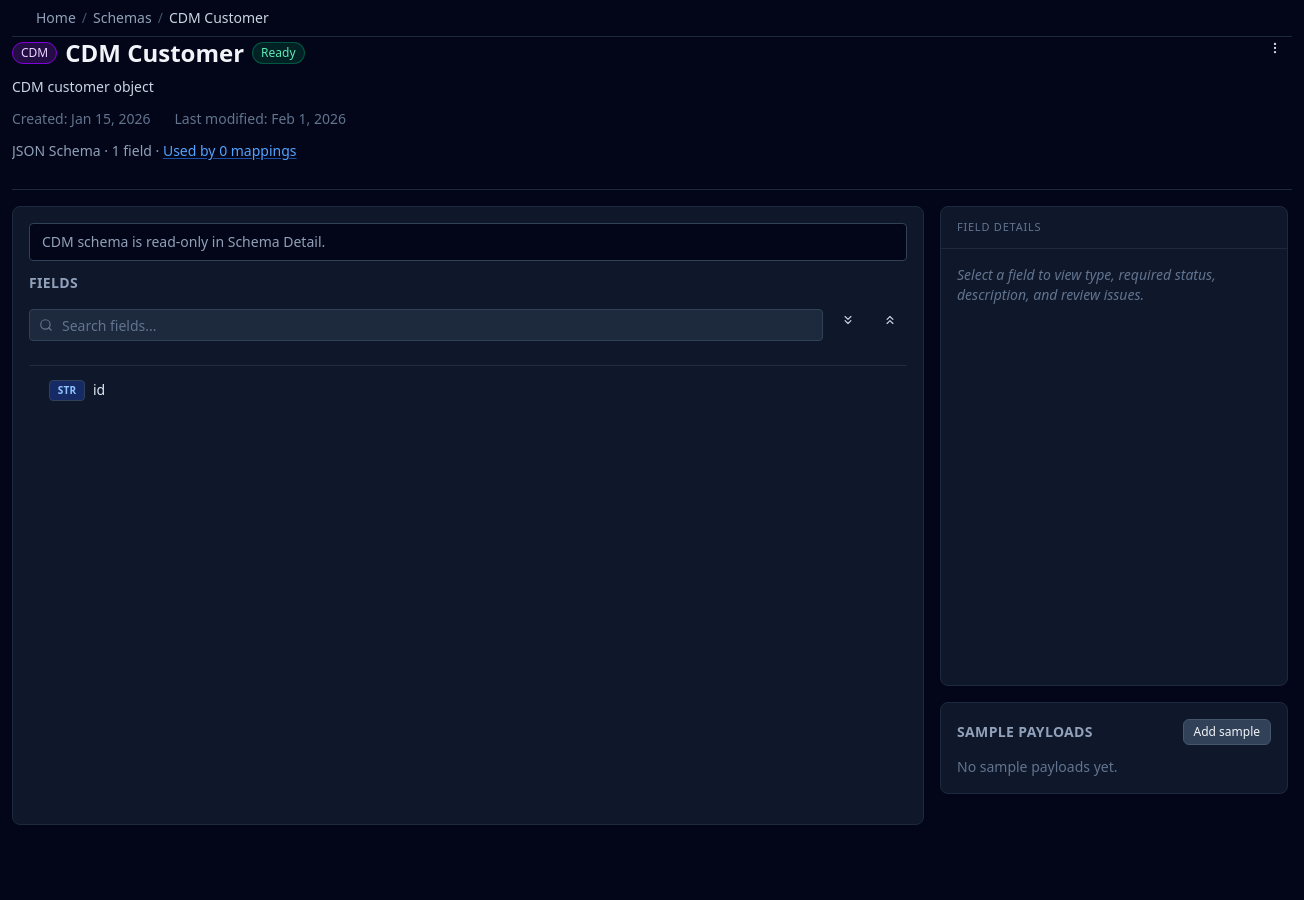
Scenario: SchemaDetailPage › CDM schema actions show header overflow View raw only and hide schema-edit entrypoints
Click the button with test id "action-overflow-trigger" at (1275, 48), box [1258,37,1292,59]
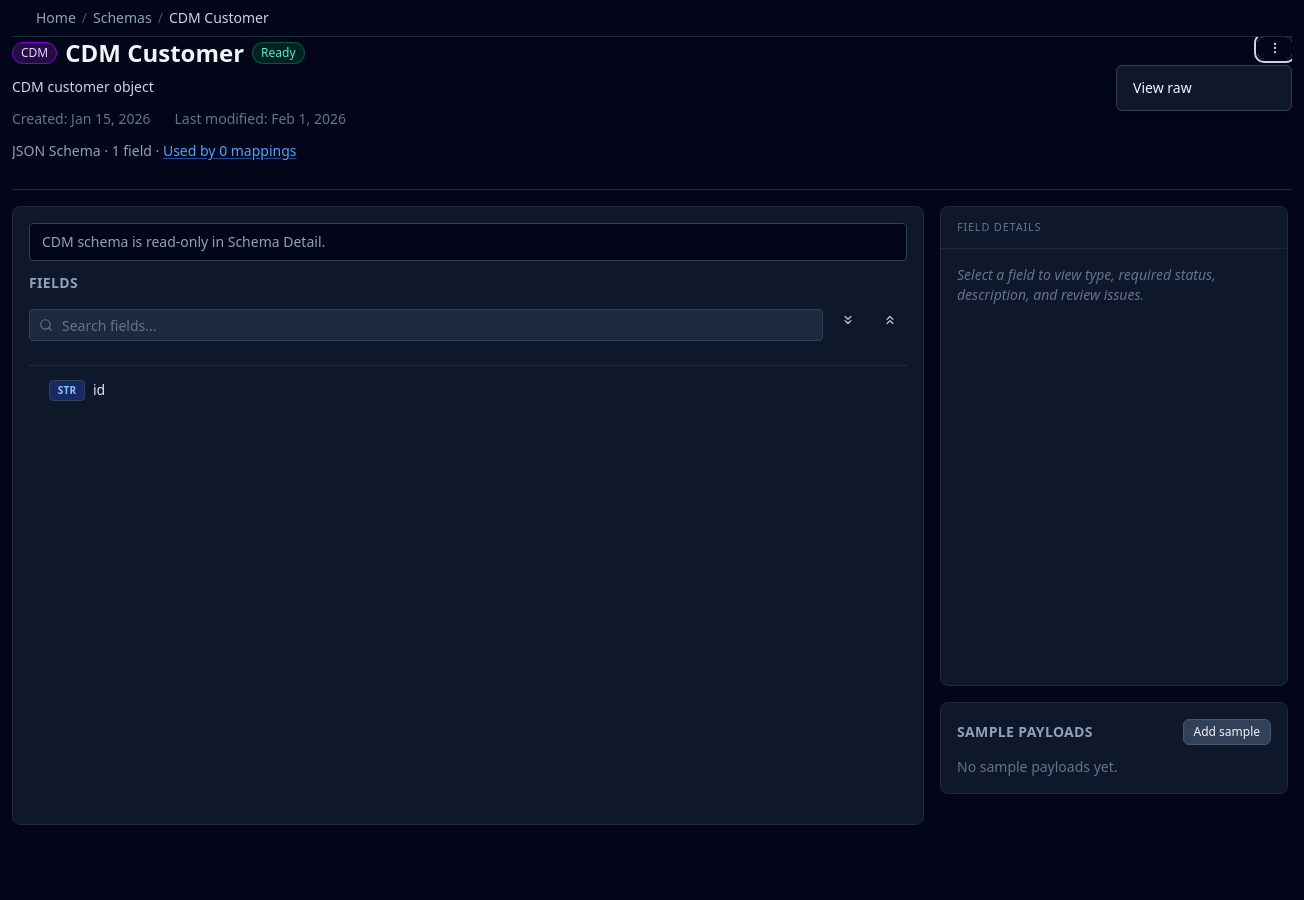
Expected: the menu item with test id "action-view-raw" is shown, [1121,70,1287,106]
